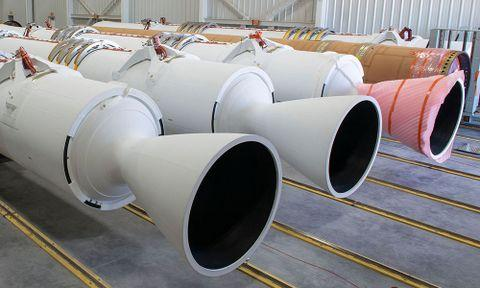thruster: (110, 130, 284, 278), (238, 94, 383, 200), (356, 74, 466, 162)
